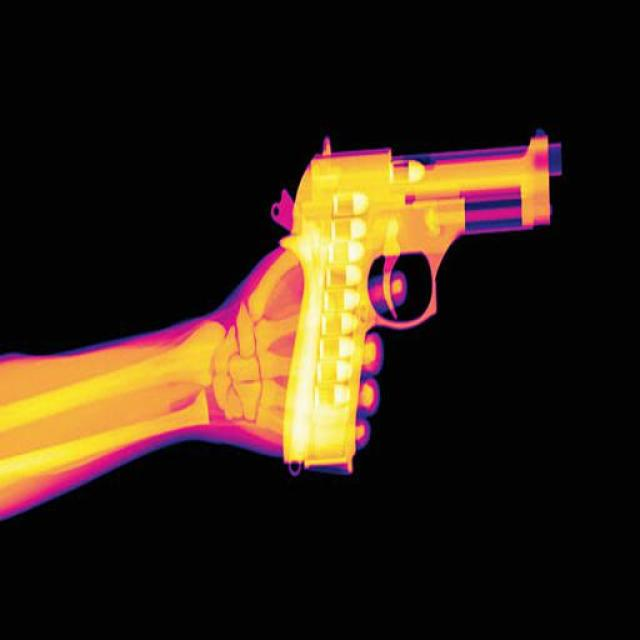pistol: (269, 127, 565, 481)
